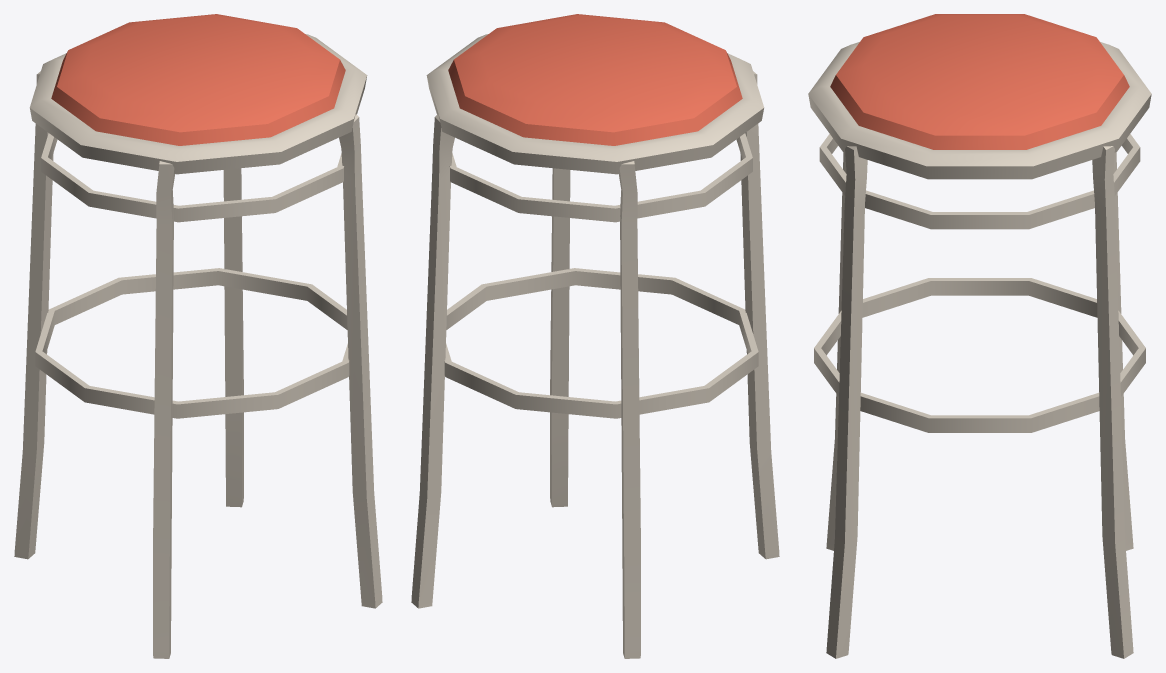
Rendered from stool_a.glb.
3 renders of one model, left to right at view 1: azimuth 30°, elevation 25°; view 2: azimuth 150°, elevation 25°; view 3: azimuth 270°, elevation 25°, orthographic. The views are drawn at different scales.
Parts seen in each view (by area): view 1: body; view 2: body; view 3: body.
Part boxes in pixels (x1,y1,x2,y2): body: (14, 14, 382, 658); body: (411, 14, 779, 658); body: (808, 14, 1151, 658).
Bounding box in the file's own units: 0.36 × 0.62 × 0.36.
